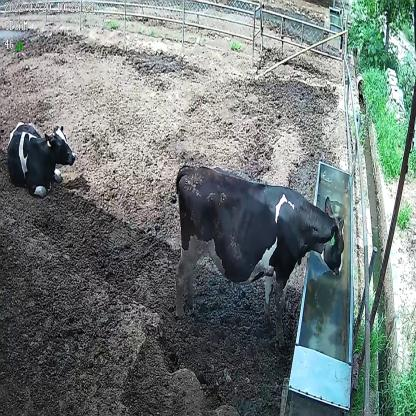cow: (171, 163, 346, 350), (5, 116, 78, 196)
